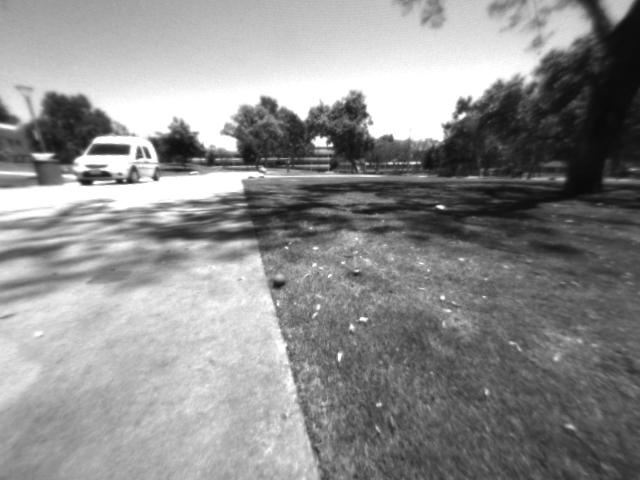dogtoy: (268, 265, 293, 293)
